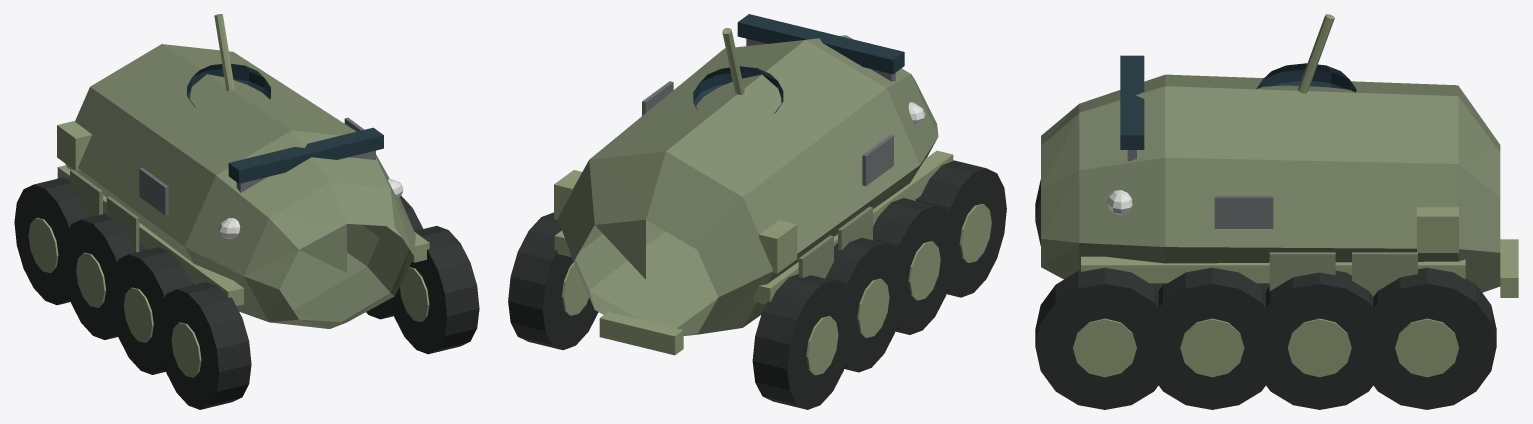
File: pindad-komodo-4x4.glb
3 renders of one model, left to right at view 1: azimuth 30°, elevation 25°; view 2: azimuth 150°, elevation 25°; view 3: azimuth 270°, elevation 25°, orthographic. The views are drawn at different scales.
Visible parts, largest first — view 1: pindad-komodo-4x4; view 2: pindad-komodo-4x4; view 3: pindad-komodo-4x4.
Part boxes in pixels (x1,y1,x2,y2): pindad-komodo-4x4: (14, 14, 479, 409); pindad-komodo-4x4: (508, 14, 1006, 409); pindad-komodo-4x4: (1035, 14, 1518, 409).
Size of the model in its own units: 1.89 by 1.95 by 2.64.
